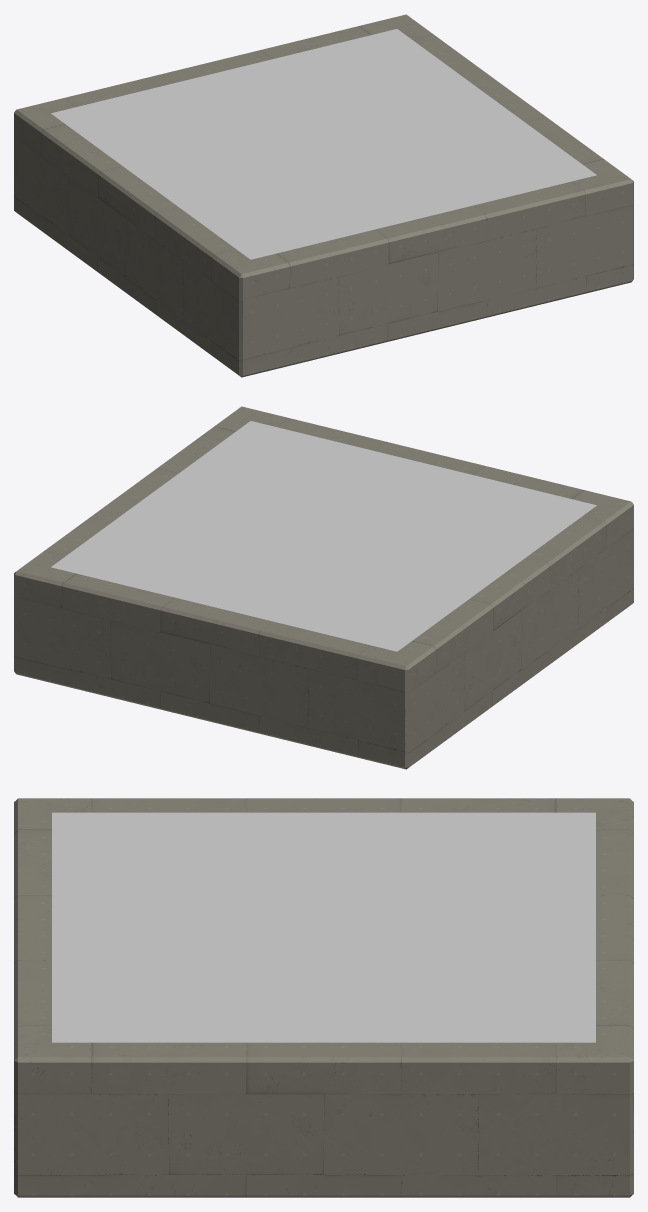
The model's file is PlatformSmallOscY.fbx.
The picture shows the model from 3 angles, top to bottom: view 1: azimuth 30°, elevation 25°; view 2: azimuth 150°, elevation 25°; view 3: azimuth 270°, elevation 25°; orthographic projection. The views are drawn at different scales.
Visible parts, largest first — view 1: PlatformSmallOscY_Floor; view 2: PlatformSmallOscY_Floor; view 3: PlatformSmallOscY_Floor.
Boxes of the visible parts, x1,y1,x2,y2 form: PlatformSmallOscY_Floor: (14, 14, 633, 377); PlatformSmallOscY_Floor: (14, 406, 633, 769); PlatformSmallOscY_Floor: (14, 798, 633, 1197).
Bounding box in the file's own units: 300 × 75 × 300.
